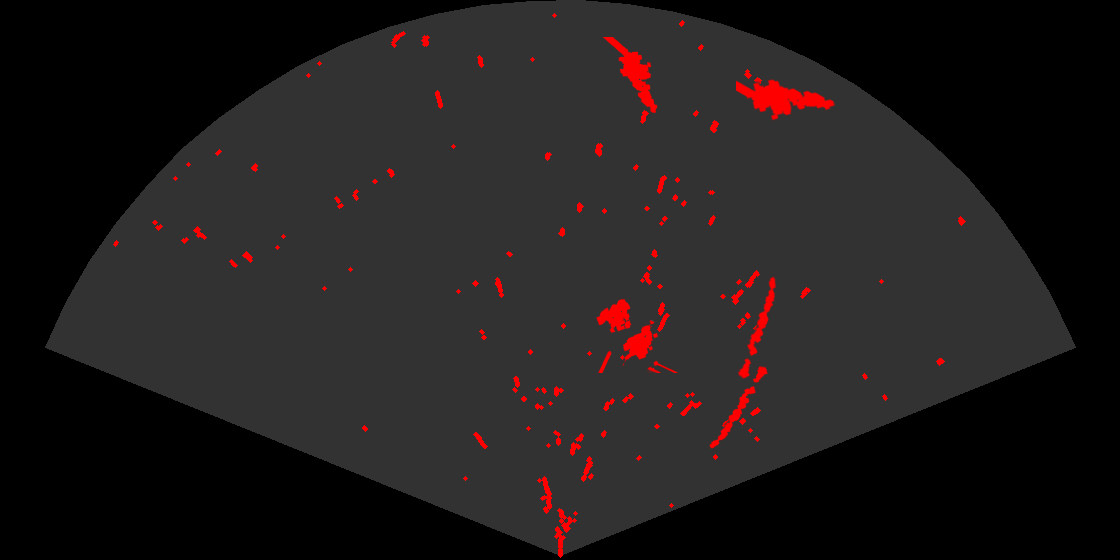cage: (595, 297, 679, 373)
chain: (708, 364, 769, 450), (736, 275, 778, 381)
frogman: (601, 37, 659, 115), (736, 78, 837, 122)
